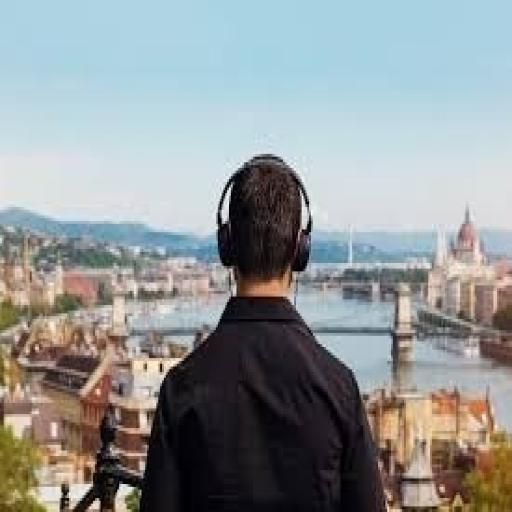listening_to_music: (138, 151, 391, 509)
